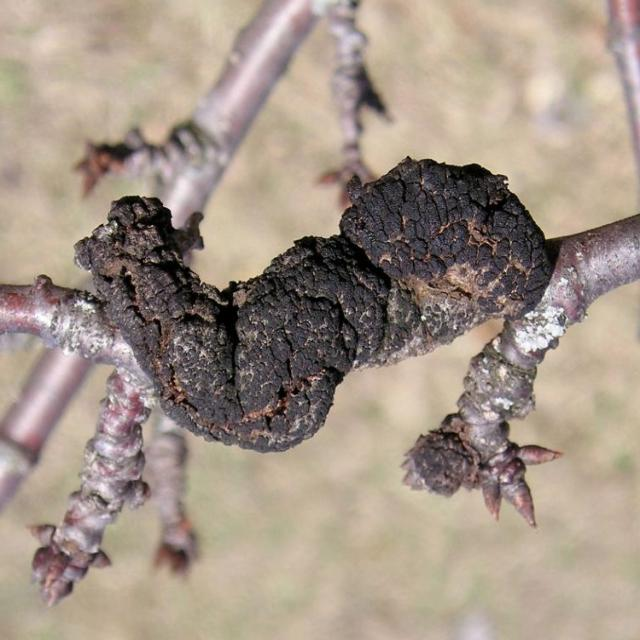Black_knot: (71, 153, 554, 455), (338, 154, 552, 322)
